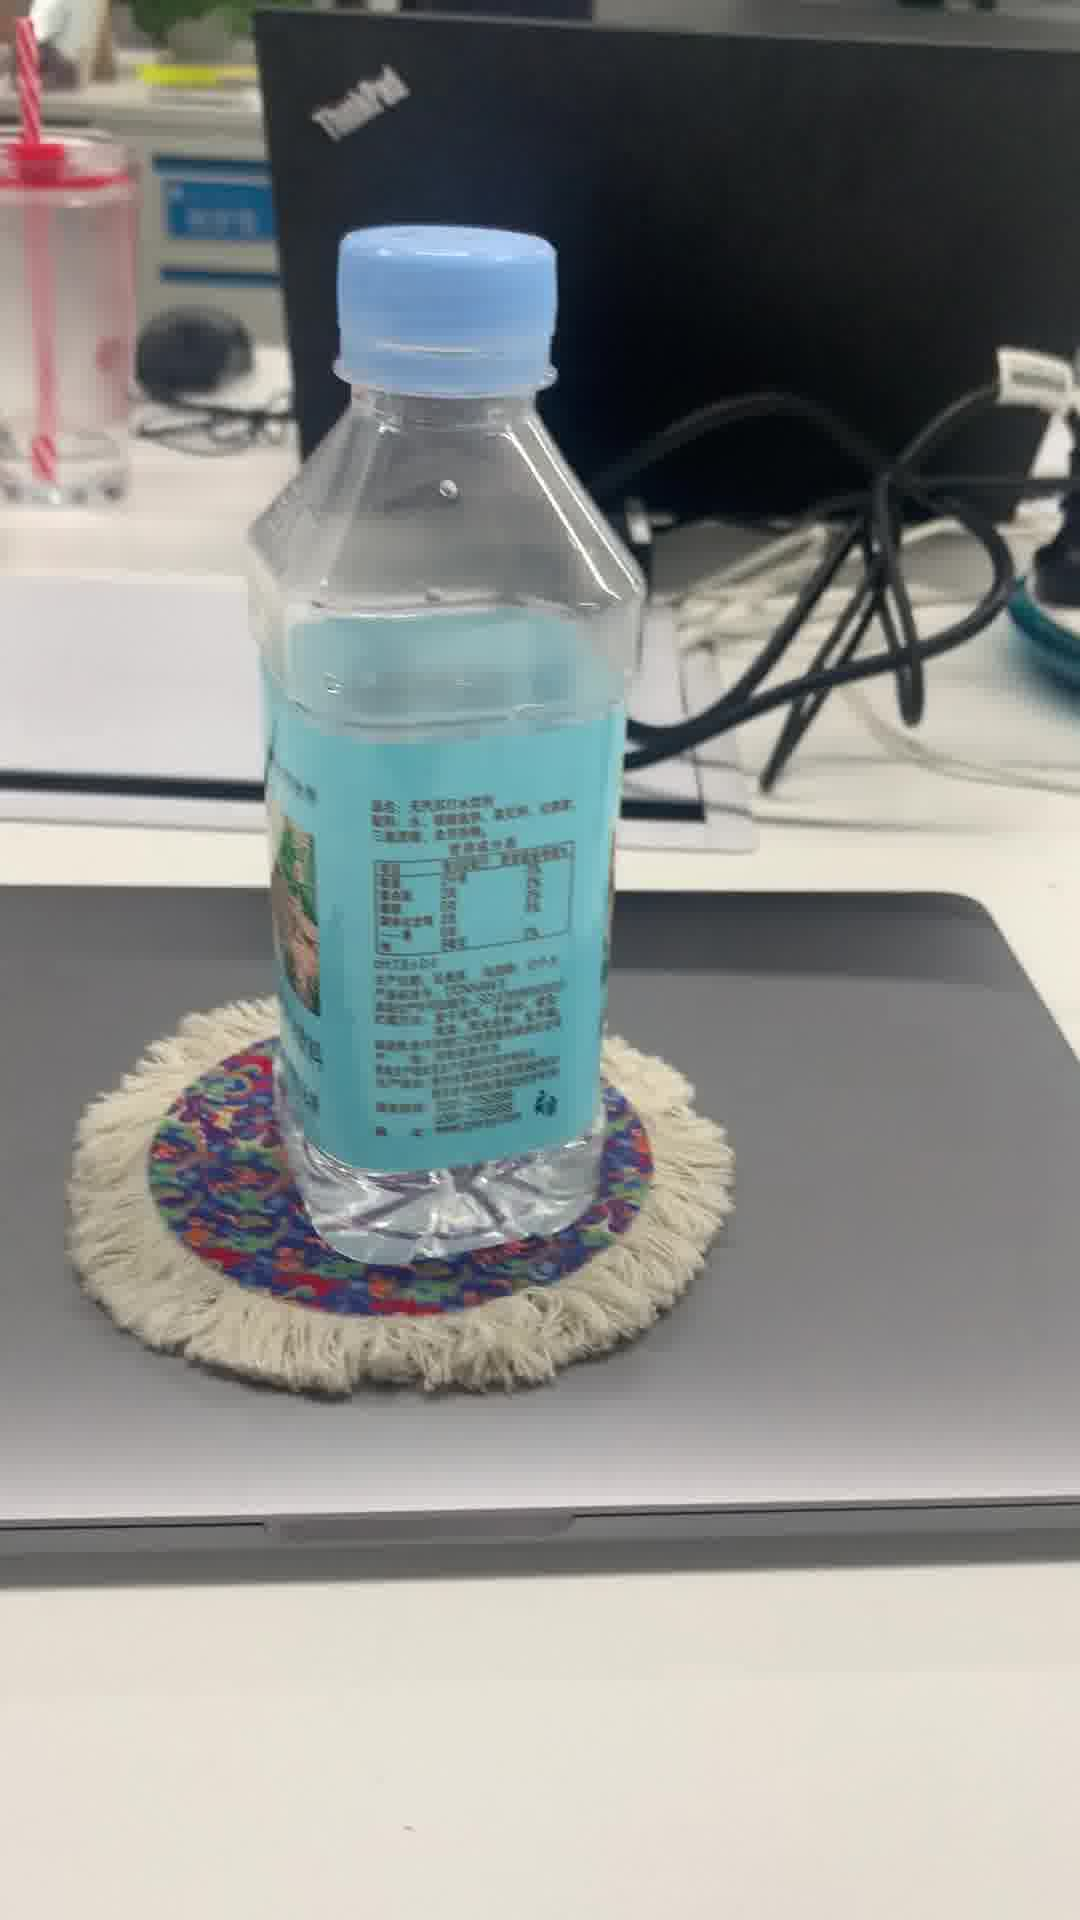水瓶: (239, 208, 626, 1263)
